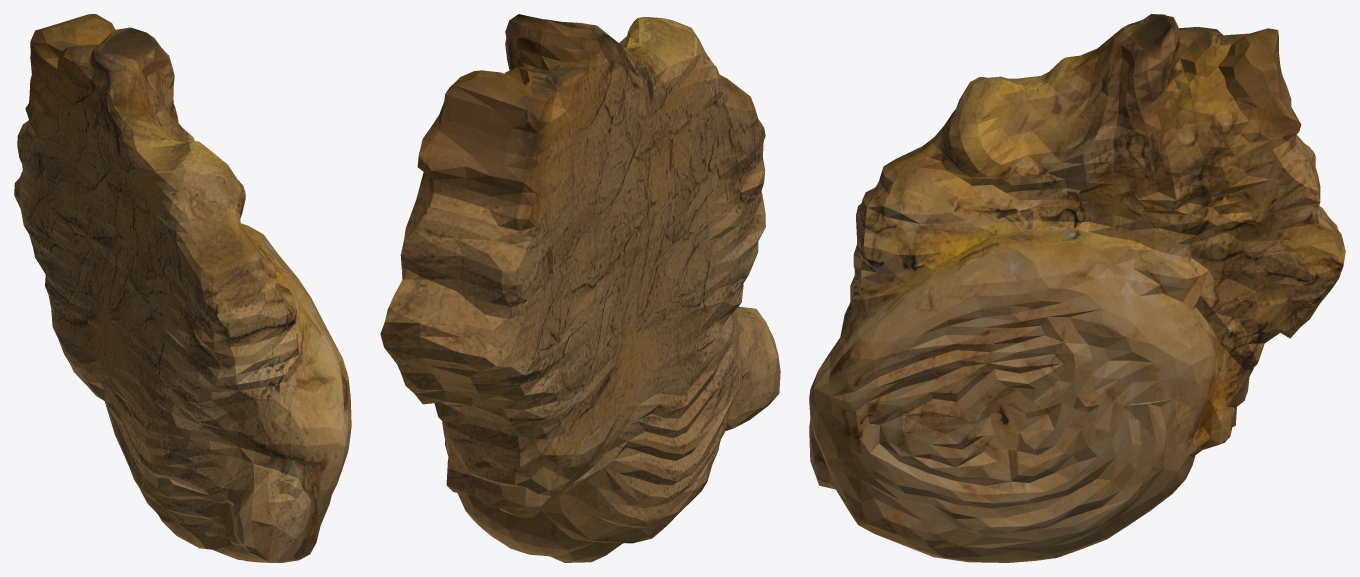
Rendered from foraminifera_001.glb.
The picture shows the model from 3 angles, left to right: view 1: azimuth 30°, elevation 25°; view 2: azimuth 150°, elevation 25°; view 3: azimuth 270°, elevation 25°; orthographic projection. The views are drawn at different scales.
Parts seen in each view (by area): view 1: tripo_node_3954f753-f318-46fd-bfaa-3e191c9f4978; view 2: tripo_node_3954f753-f318-46fd-bfaa-3e191c9f4978; view 3: tripo_node_3954f753-f318-46fd-bfaa-3e191c9f4978.
Boxes of the visible parts, box(x1,y1,x2,y2) form: tripo_node_3954f753-f318-46fd-bfaa-3e191c9f4978: box(14, 14, 351, 562); tripo_node_3954f753-f318-46fd-bfaa-3e191c9f4978: box(380, 14, 780, 562); tripo_node_3954f753-f318-46fd-bfaa-3e191c9f4978: box(809, 14, 1345, 562).
Size of the model in its own units: 0.2846 by 0.9469 by 0.8812.
1 material, 1 textured.
